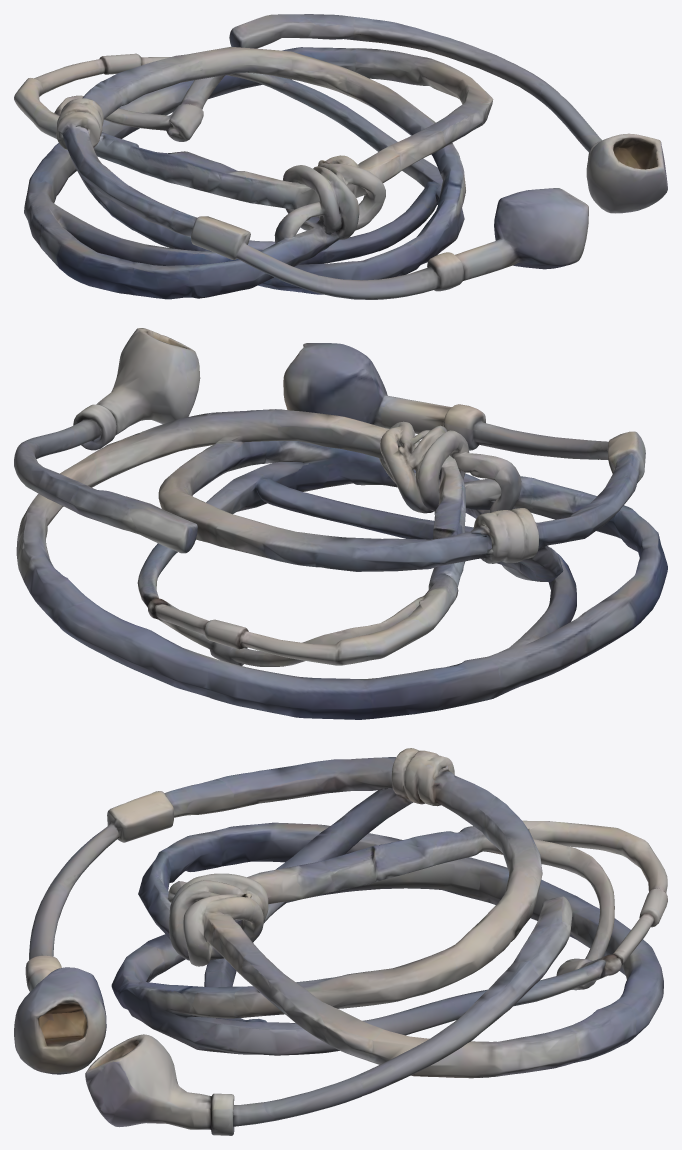
The model's file is earphones-web.glb.
3 renders of one model, top to bottom at view 1: azimuth 30°, elevation 25°; view 2: azimuth 150°, elevation 25°; view 3: azimuth 270°, elevation 25°, orthographic. The views are drawn at different scales.
Parts seen in each view (by area): view 1: tripo_node_a2bf6b4e-6020-4bde-8702-2c95c902c17c; view 2: tripo_node_a2bf6b4e-6020-4bde-8702-2c95c902c17c; view 3: tripo_node_a2bf6b4e-6020-4bde-8702-2c95c902c17c.
Part boxes in pixels (bbox=[...]): tripo_node_a2bf6b4e-6020-4bde-8702-2c95c902c17c: bbox=[14, 14, 667, 299]; tripo_node_a2bf6b4e-6020-4bde-8702-2c95c902c17c: bbox=[14, 328, 667, 719]; tripo_node_a2bf6b4e-6020-4bde-8702-2c95c902c17c: bbox=[14, 748, 667, 1135].
Bounding box in the file's own units: 0.9997 × 0.2502 × 0.9345.
Materials: 1 (1 with a texture image).
